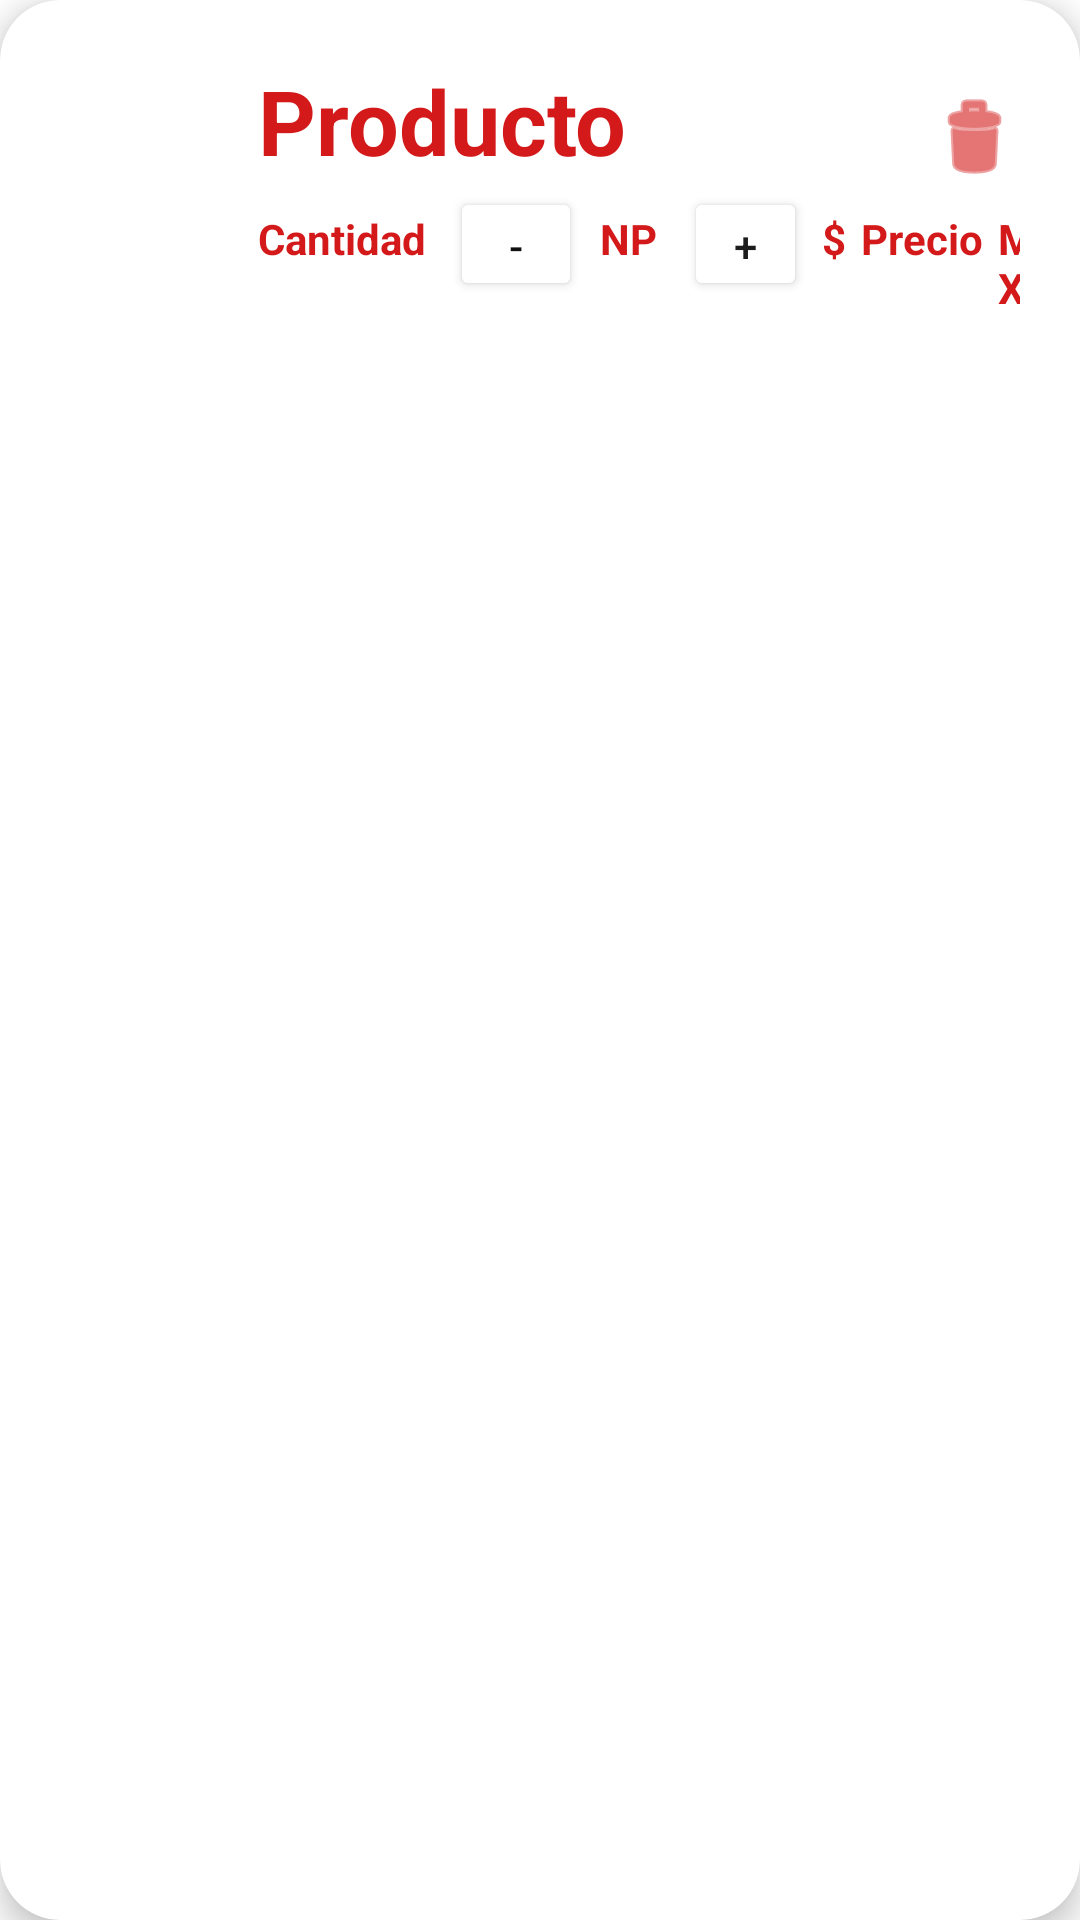

Where to tap for icons on this 1080px×1920px app screen, as (x,y):
delete: (974,136)
